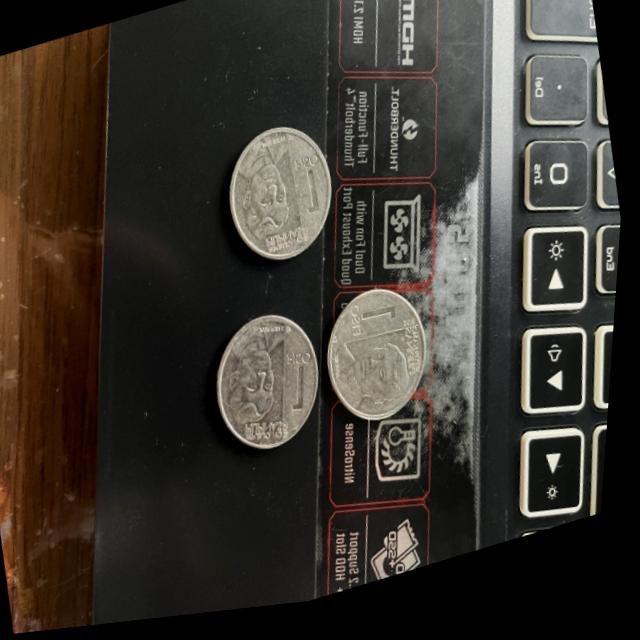1_New_Front: (335, 295, 433, 419), (228, 331, 327, 440), (237, 145, 333, 249)
